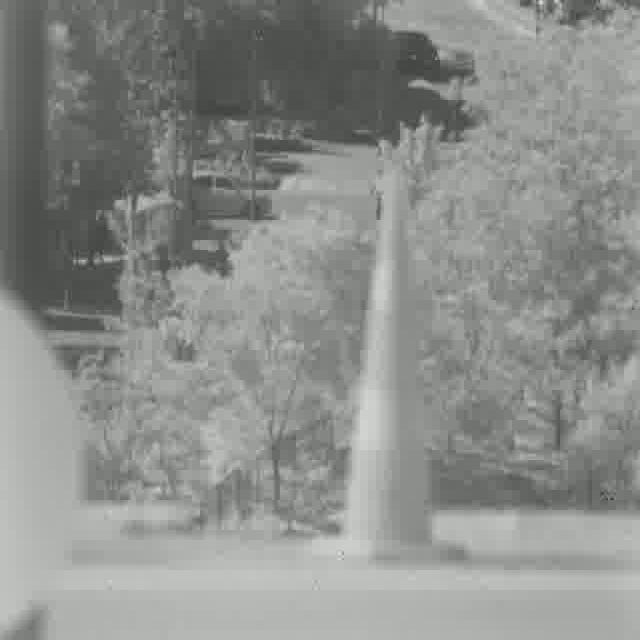Car: (392, 32, 438, 78)
